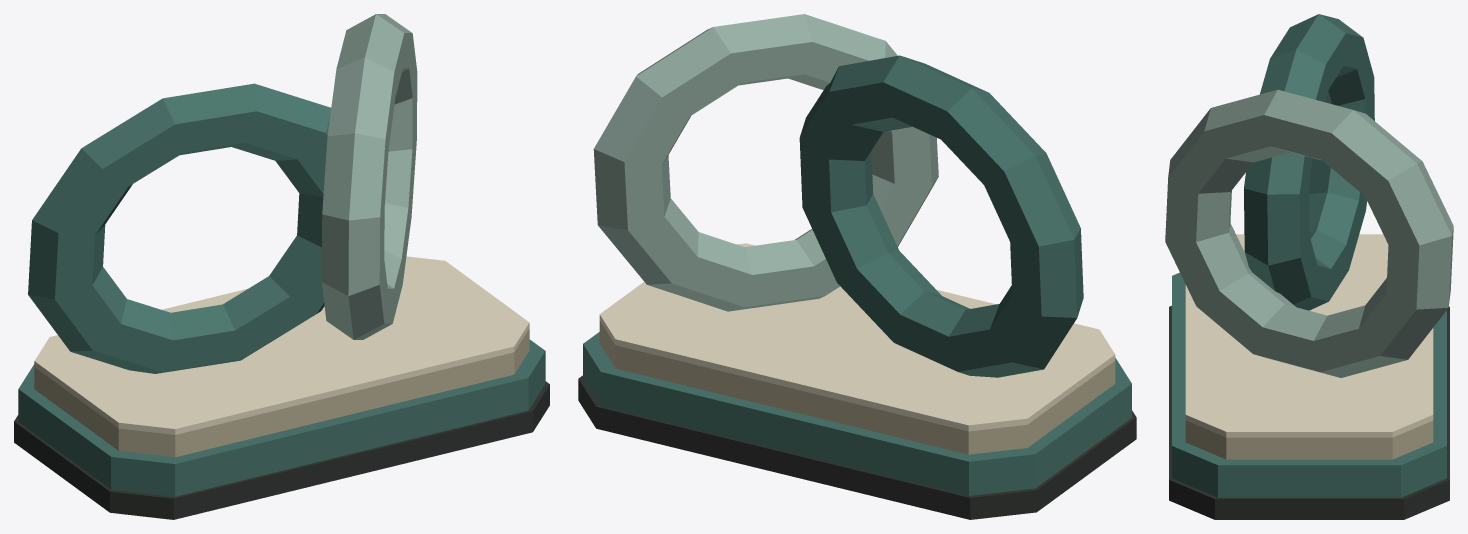
The model's file is org.glb.
3 renders of one model, left to right at view 1: azimuth 30°, elevation 25°; view 2: azimuth 150°, elevation 25°; view 3: azimuth 270°, elevation 25°, orthographic. The views are drawn at different scales.
Visible parts, largest first — view 1: Linked rings; view 2: Linked rings; view 3: Linked rings.
Part boxes in pixels (x1,y1,x2,y2): Linked rings: (14, 14, 549, 519); Linked rings: (578, 14, 1136, 519); Linked rings: (1165, 14, 1453, 519).
Bounding box in the file's own units: 2.02 × 1.55 × 1.13.
